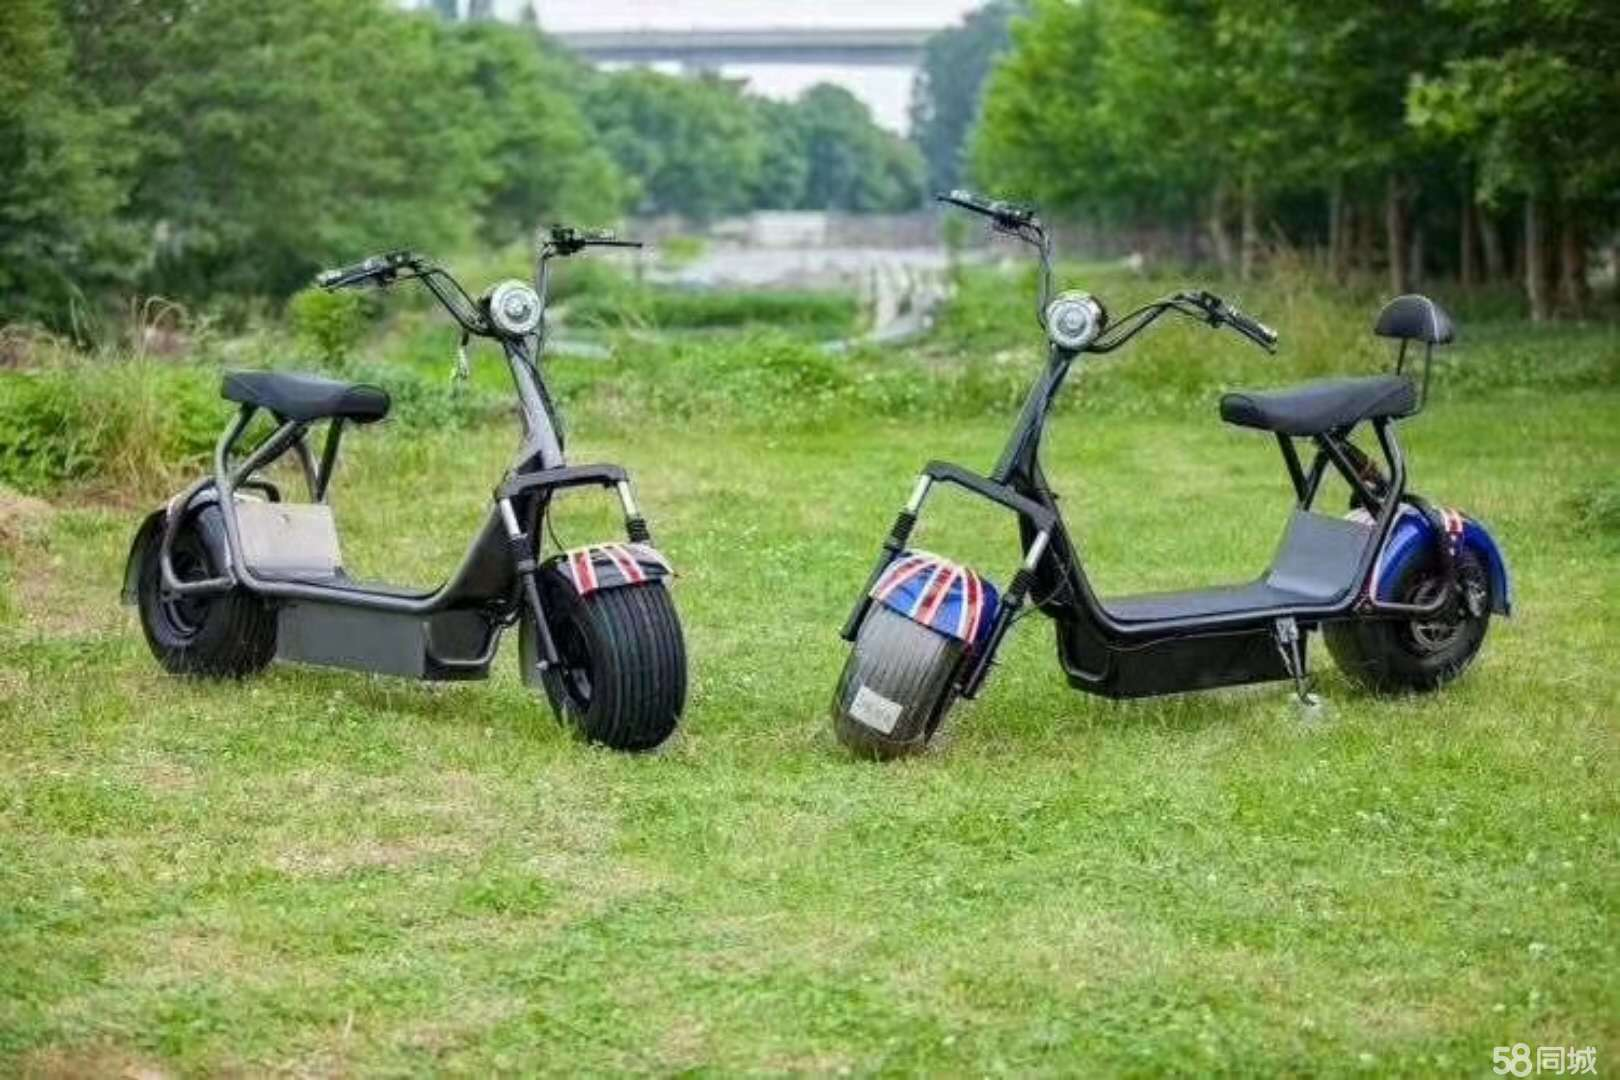电动车: (829, 166, 1518, 765), (115, 202, 709, 761)
